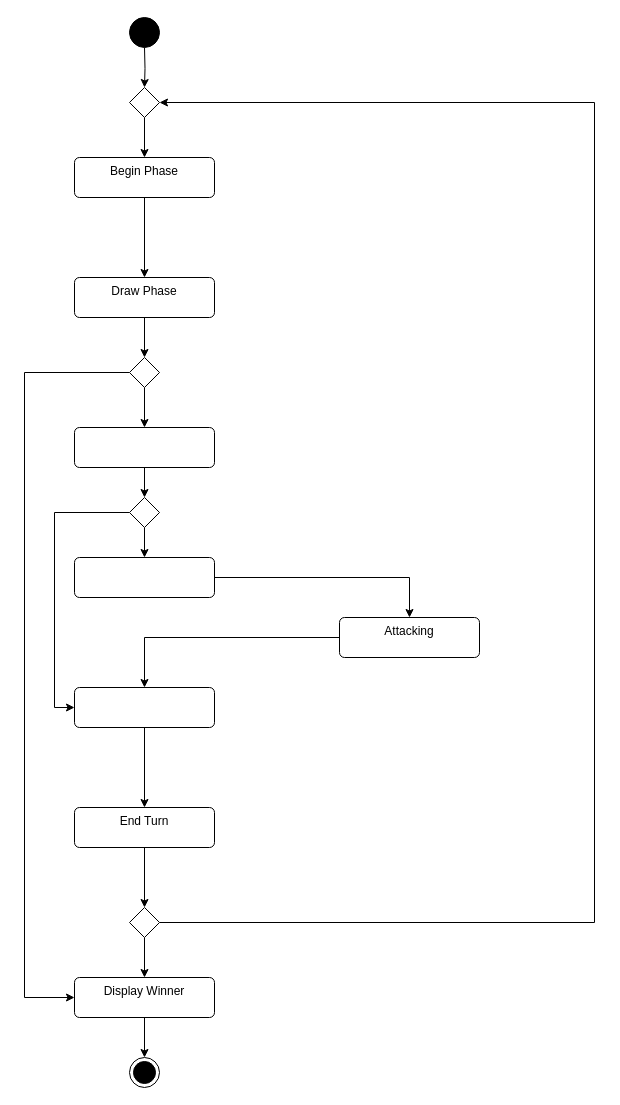
The diagram is 620 pixels wide and 1105 high, and some of its shapes have lost their labels. Each missing label, with the box of its shape:
Combat Phase: (74, 556, 214, 598)
End Phase: (74, 686, 214, 728)
Main Phase: (74, 426, 214, 468)
